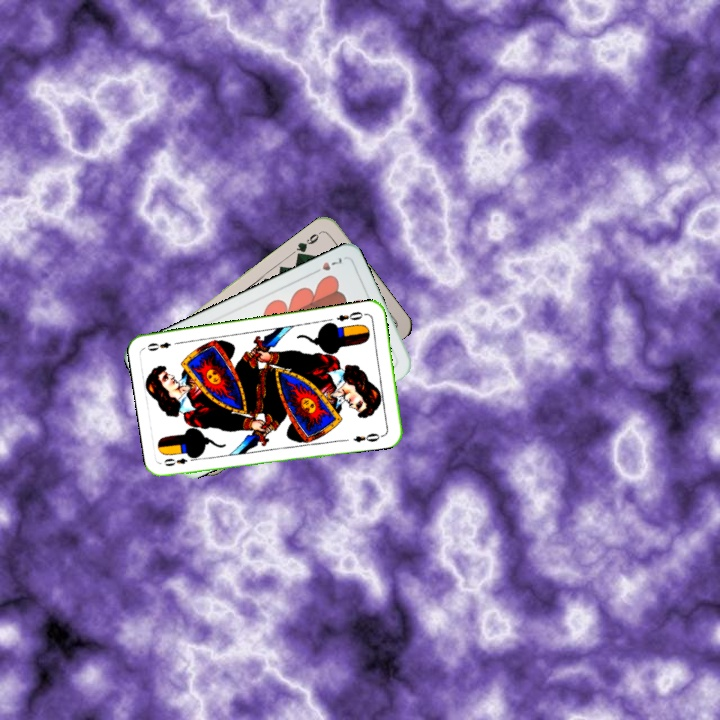EO: (333, 307, 365, 324), (160, 454, 190, 469)
G9: (292, 227, 325, 259)
H7: (308, 253, 345, 277)
